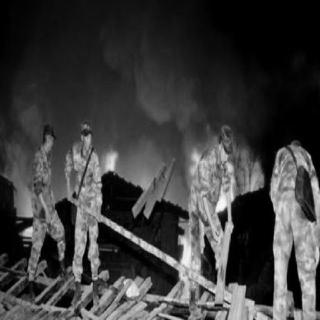Fire: (10, 171, 34, 240)
